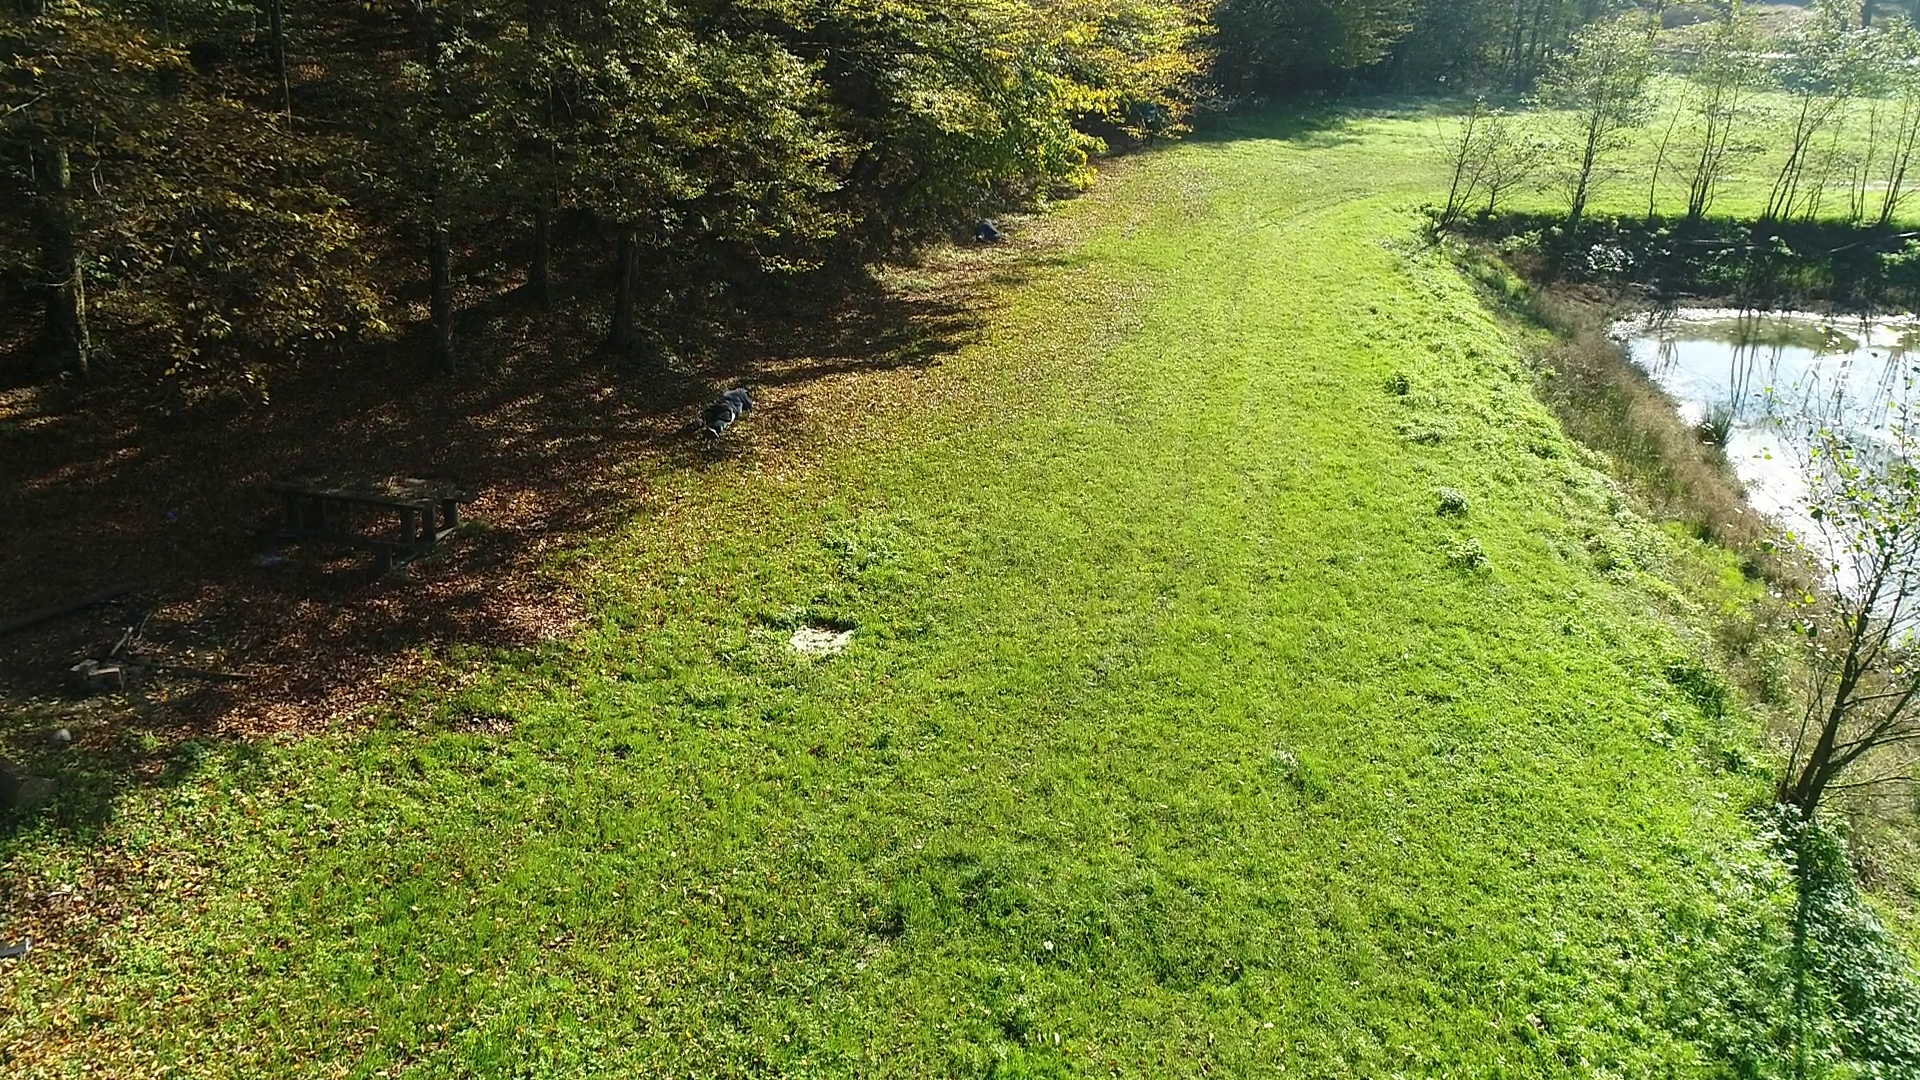person: (693, 386, 753, 439), (1139, 97, 1157, 144), (975, 217, 1001, 240)
